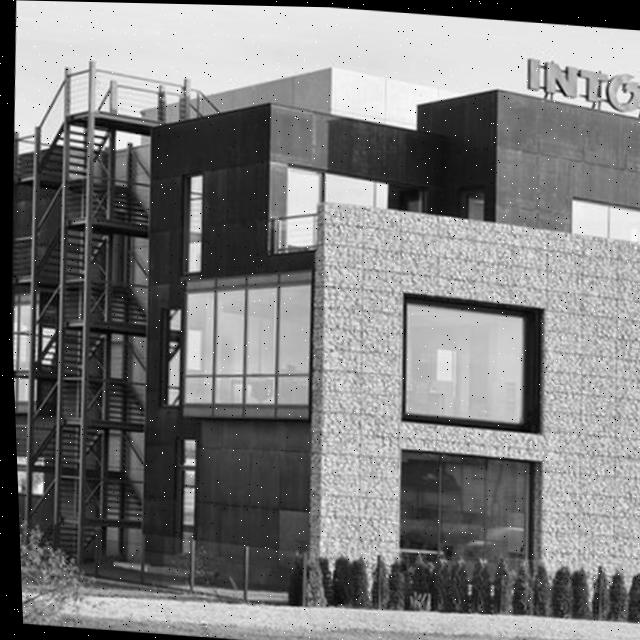building: (1, 37, 640, 609)
